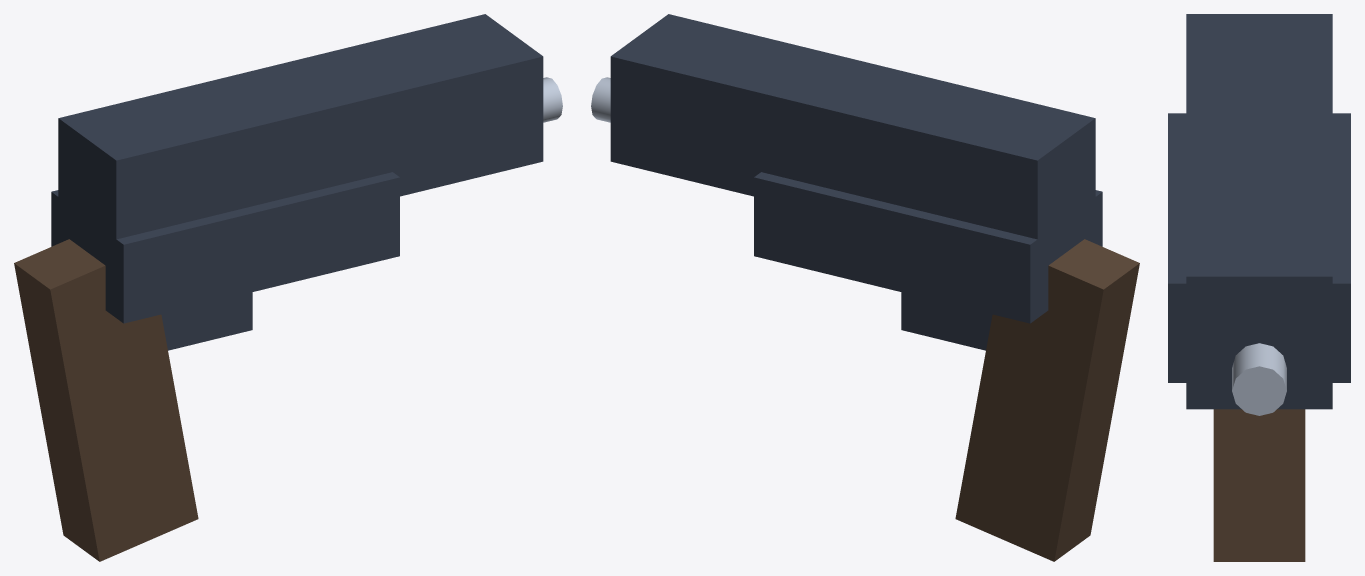
File: metaverse-service-pistol.gltf
3 renders of one model, left to right at view 1: azimuth 30°, elevation 25°; view 2: azimuth 150°, elevation 25°; view 3: azimuth 270°, elevation 25°, orthographic. The views are drawn at different scales.
Parts seen in each view (by area): view 1: metaverse_service_pistol_slide, metaverse_service_pistol_grip, metaverse_service_pistol_frame, metaverse_service_pistol_trigger_guard, metaverse_service_pistol_barrel; view 2: metaverse_service_pistol_slide, metaverse_service_pistol_grip, metaverse_service_pistol_frame, metaverse_service_pistol_trigger_guard, metaverse_service_pistol_barrel; view 3: metaverse_service_pistol_slide, metaverse_service_pistol_grip, metaverse_service_pistol_frame, metaverse_service_pistol_barrel.
Part boxes in pixels (x1,y1,x2,y2): metaverse_service_pistol_slide: [58, 14, 543, 265]; metaverse_service_pistol_grip: [14, 239, 198, 561]; metaverse_service_pistol_frame: [51, 172, 399, 323]; metaverse_service_pistol_trigger_guard: [161, 292, 252, 350]; metaverse_service_pistol_barrel: [543, 77, 562, 122]; metaverse_service_pistol_slide: [610, 14, 1095, 265]; metaverse_service_pistol_grip: [955, 239, 1139, 561]; metaverse_service_pistol_frame: [754, 172, 1102, 323]; metaverse_service_pistol_trigger_guard: [901, 292, 992, 350]; metaverse_service_pistol_barrel: [591, 77, 610, 122]; metaverse_service_pistol_slide: [1186, 14, 1332, 409]; metaverse_service_pistol_grip: [1213, 409, 1305, 561]; metaverse_service_pistol_frame: [1168, 113, 1350, 382]; metaverse_service_pistol_barrel: [1232, 343, 1286, 415].
Size of the model in its own units: 0.414 by 0.3104 by 0.1.
